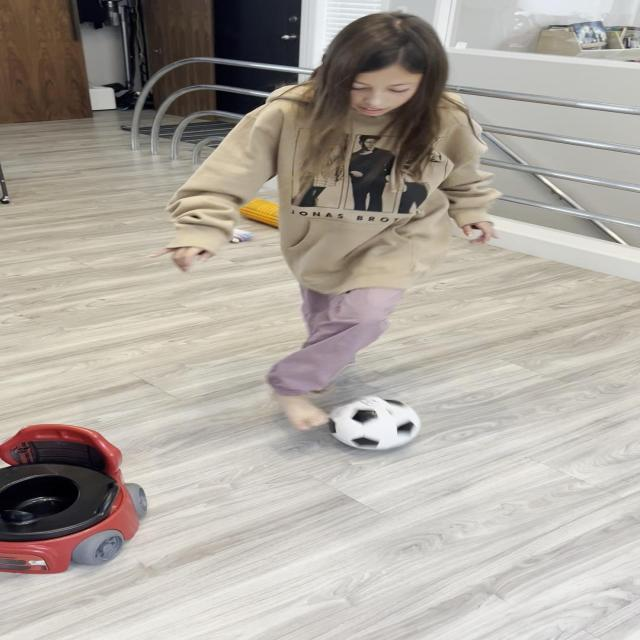Soccer Ball: (328, 397, 422, 450)
